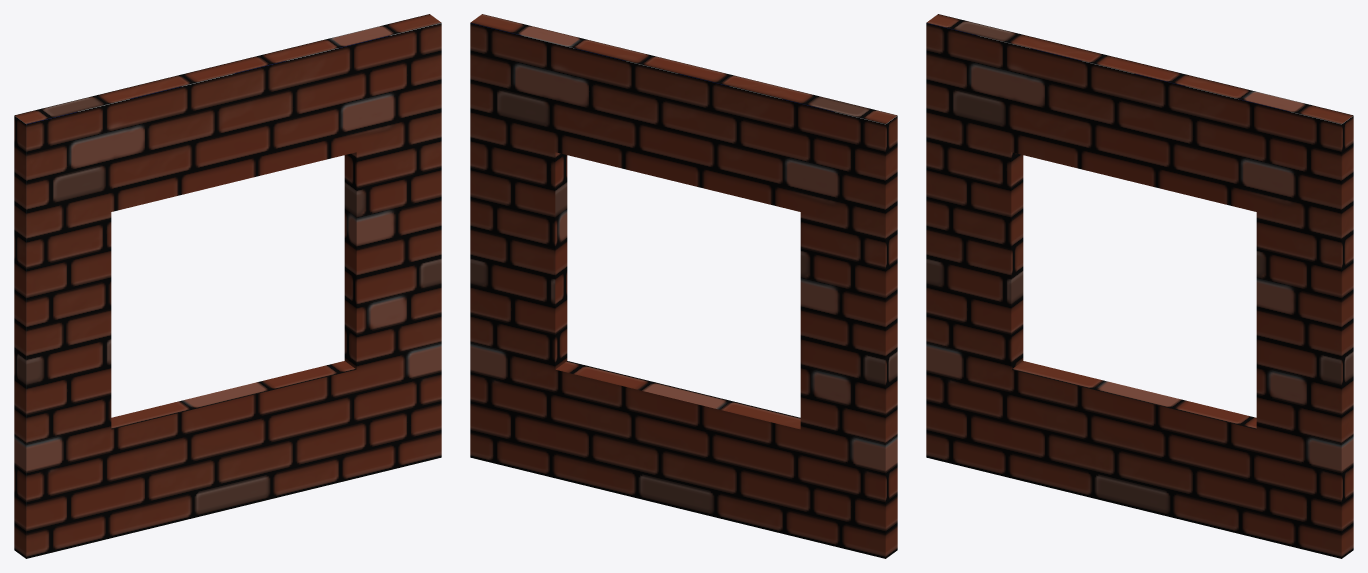
Rendered from Wall_1_C.fbx.
3 views of the same model, side by side, from view 1: azimuth 30°, elevation 25°; view 2: azimuth 150°, elevation 25°; view 3: azimuth 330°, elevation 25° (orthographic).
Parts seen in each view (by area): view 1: pCube4; view 2: pCube4; view 3: pCube4.
Boxes of the visible parts, x1=… form: pCube4: x1=14, y1=14, x2=441, y2=558; pCube4: x1=470, y1=14, x2=897, y2=558; pCube4: x1=926, y1=14, x2=1353, y2=558.
Bounding box in the file's own units: 4 × 4 × 0.2.
